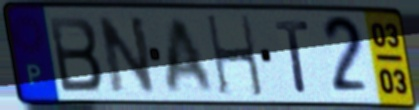2: (319, 13, 378, 102)
A: (164, 16, 217, 96)
B: (46, 14, 106, 94)
H: (203, 13, 267, 100)
N: (94, 14, 159, 96)
T: (272, 17, 312, 95)
